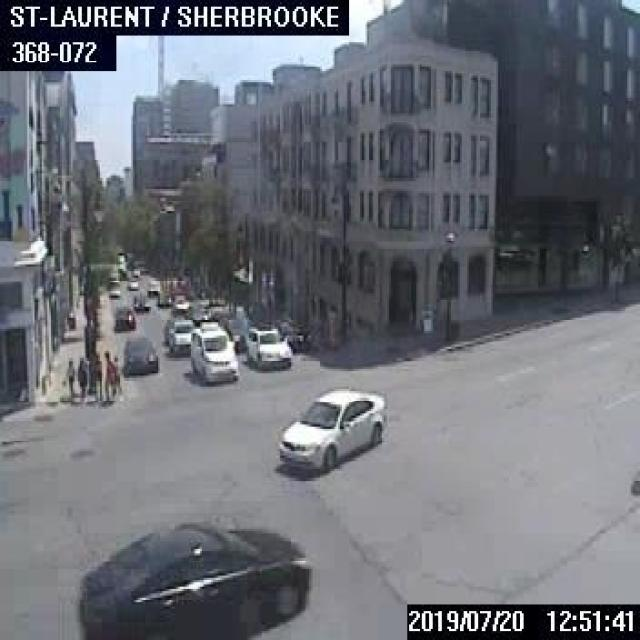pedestrian: (101, 348, 114, 403), (74, 354, 87, 398), (64, 354, 74, 394), (112, 354, 121, 396), (94, 348, 101, 397)
vehicle: (76, 520, 311, 638), (271, 387, 385, 473), (189, 320, 237, 382), (244, 321, 291, 367), (120, 333, 156, 371), (166, 318, 198, 354), (224, 316, 254, 351), (113, 302, 134, 329), (132, 292, 150, 312), (170, 294, 188, 312), (156, 290, 170, 306), (144, 277, 158, 292), (106, 283, 120, 296), (124, 278, 140, 289)
